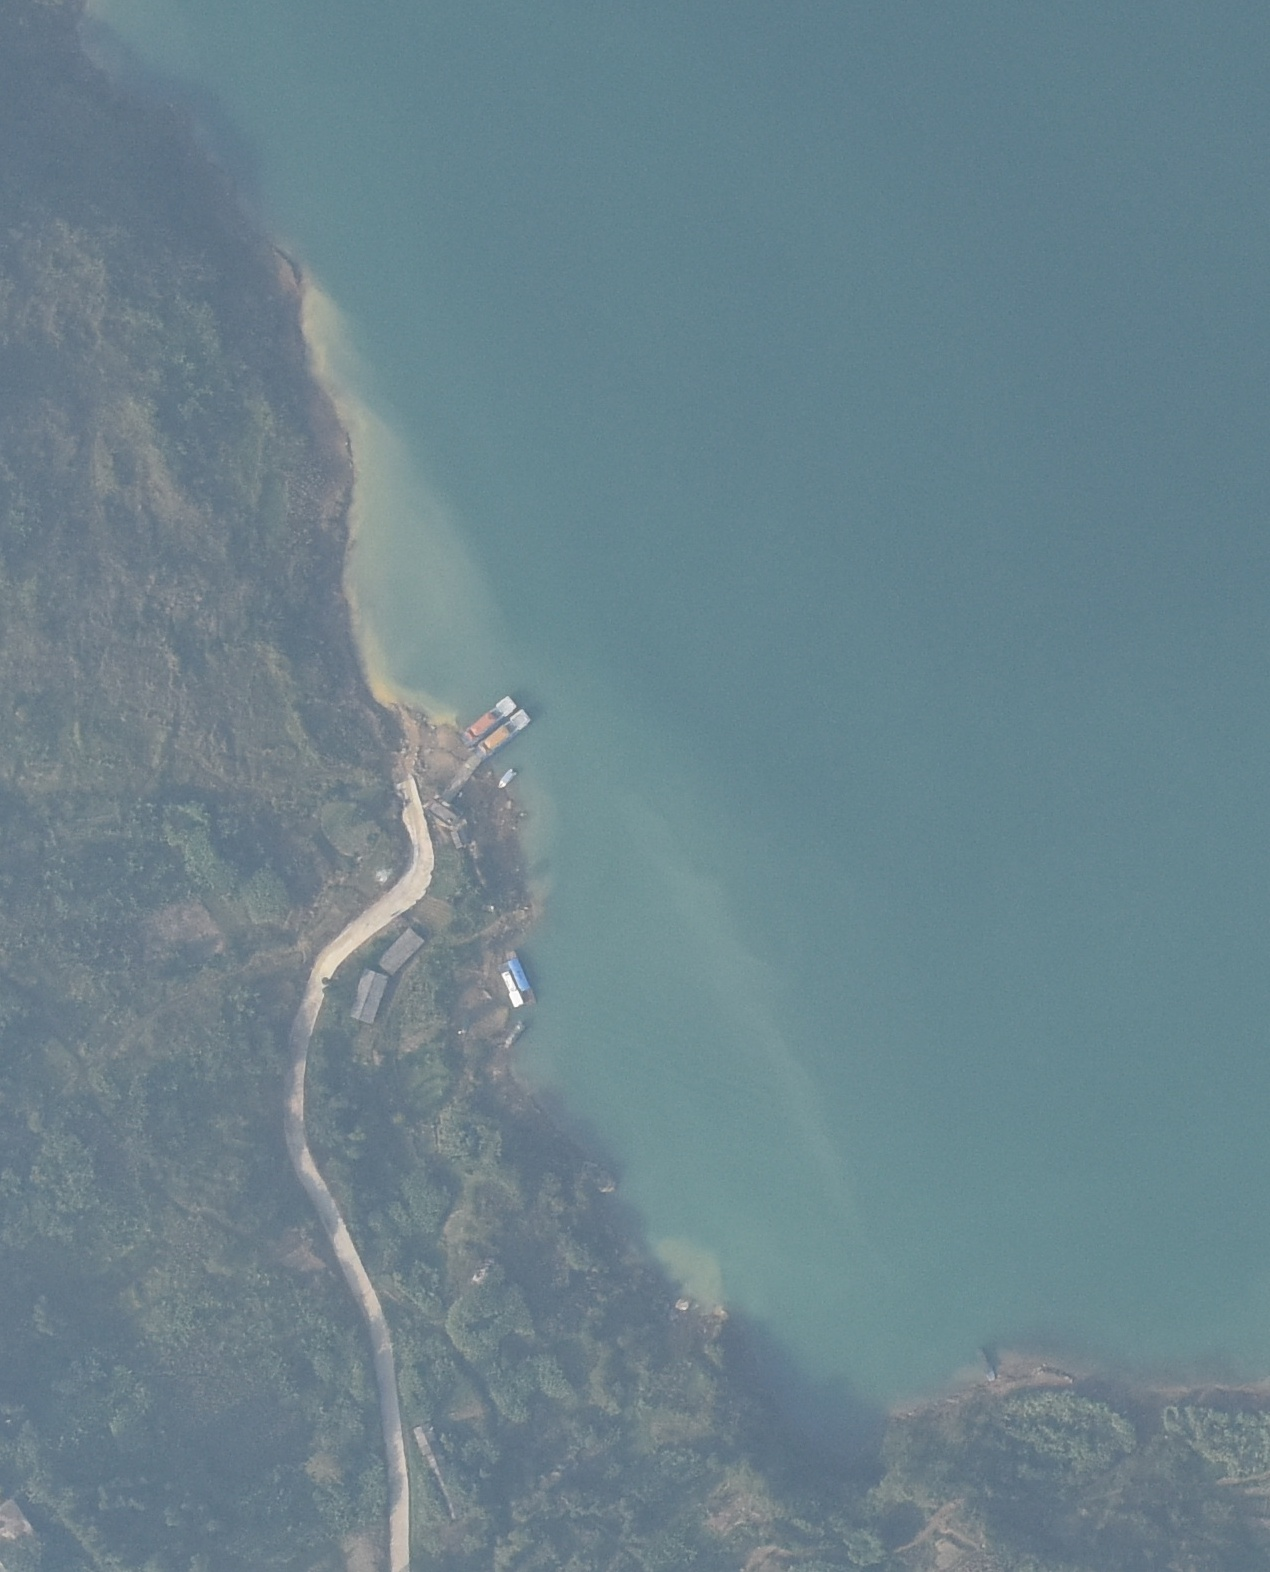building: (376, 928, 431, 971), (348, 971, 389, 1025)
prefabricated-house: (495, 969, 523, 1011), (509, 953, 533, 992)
ship: (461, 696, 518, 749), (474, 709, 533, 757), (499, 1019, 530, 1048), (496, 764, 521, 792)
